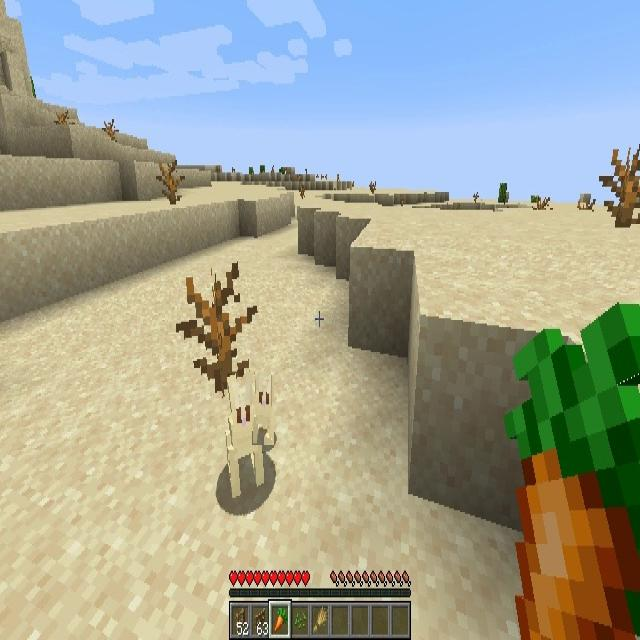rabbit: (224, 377, 264, 492), (252, 376, 274, 446)
